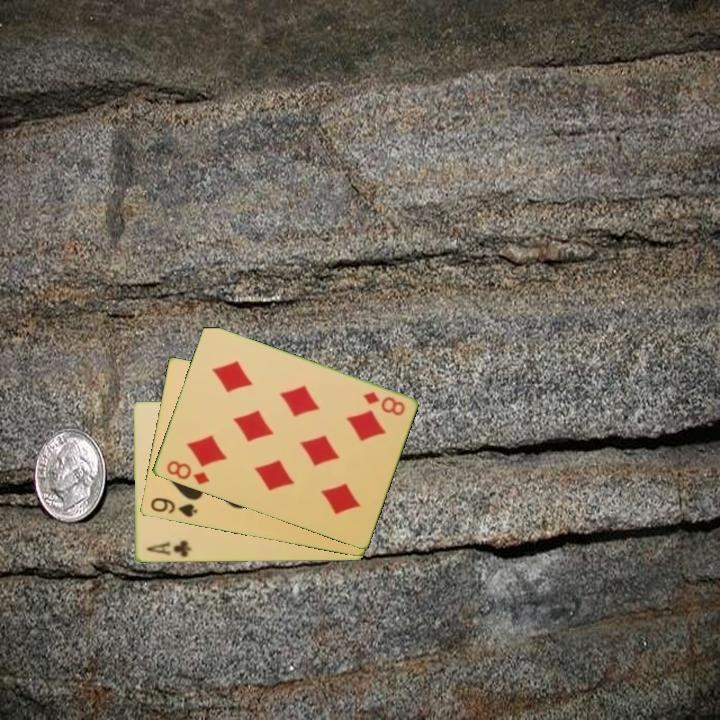8d: (163, 457, 212, 488), (359, 388, 408, 419)
9s: (147, 494, 200, 520)
Ac: (143, 537, 194, 560)
